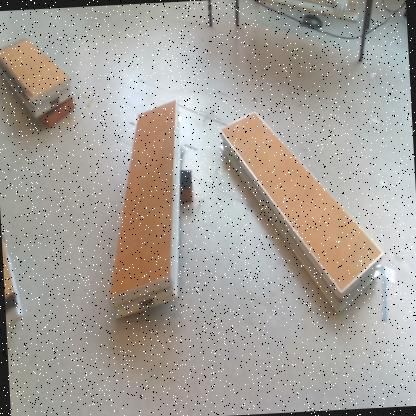Stairs: (220, 113, 384, 314), (110, 101, 182, 320), (1, 39, 75, 120), (2, 235, 23, 329)
